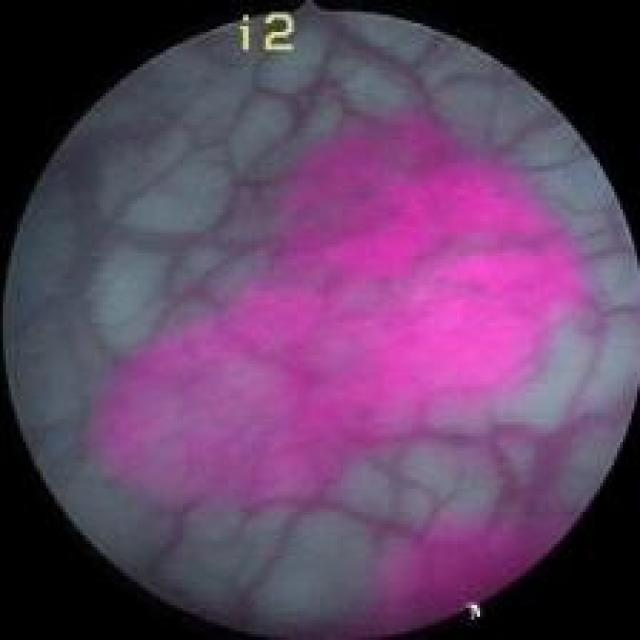color misalignment: (238, 9, 294, 57), (461, 599, 482, 622)
